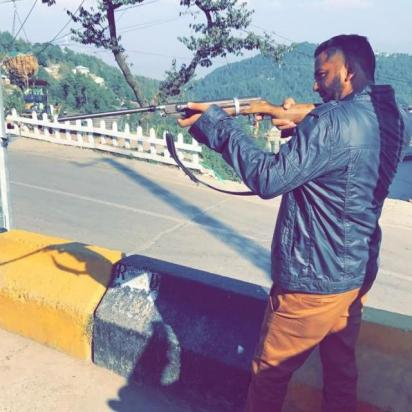Gun: (55, 96, 326, 132)
